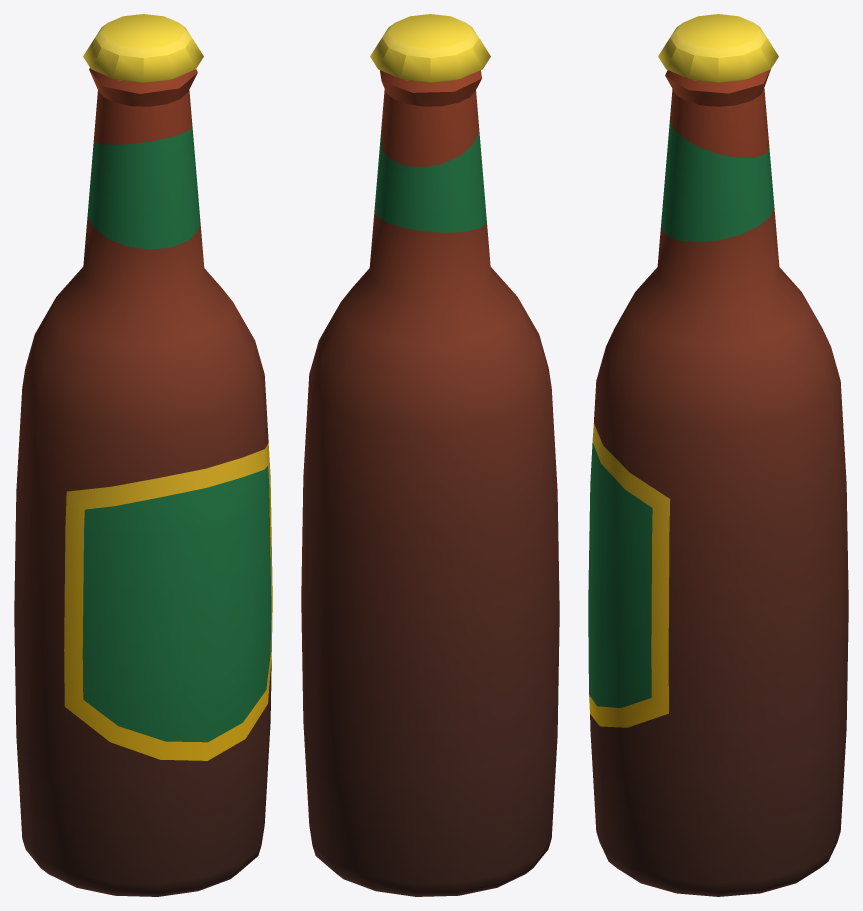
The model's file is bottle_023.fbx.
The picture shows the model from 3 angles, left to right: view 1: azimuth 30°, elevation 25°; view 2: azimuth 150°, elevation 25°; view 3: azimuth 270°, elevation 25°; orthographic projection.
Visible parts, largest first — view 1: bottle_023; view 2: bottle_023; view 3: bottle_023.
Boxes of the visible parts, box(x1,y1,x2,y2) form: bottle_023: box(14, 14, 272, 896); bottle_023: box(301, 14, 559, 896); bottle_023: box(588, 14, 848, 896).
Bounding box in the file's own units: 6.42 × 6.42 × 22.36.
